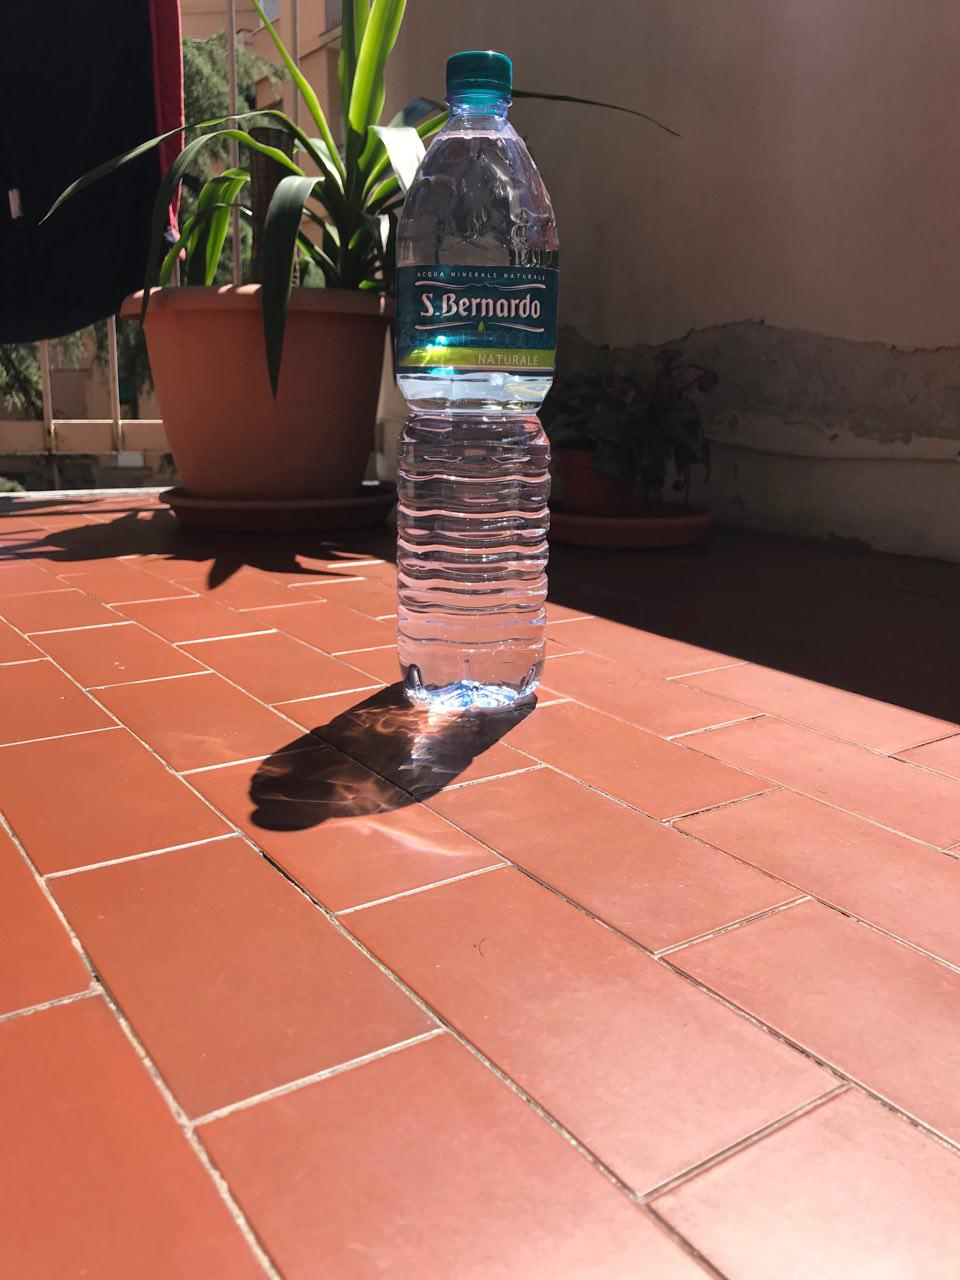san_bernardo: (394, 50, 559, 709)
